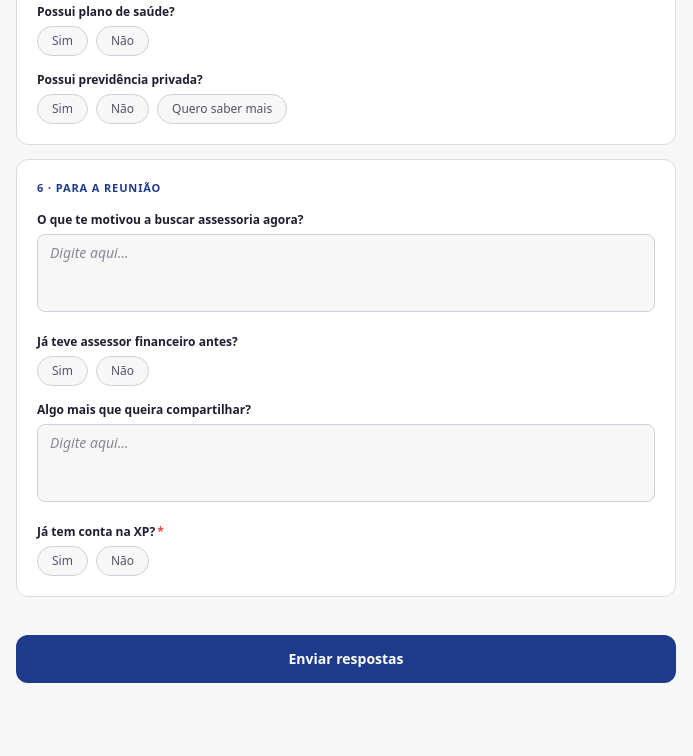
Test: FormPage › exibe erros ao submeter sem campos obrigatórios
The image size is (693, 756).
(page scrolled)
Click the button "Enviar respostas" at (346, 659), box [16,635,676,683]
(page scrolled)
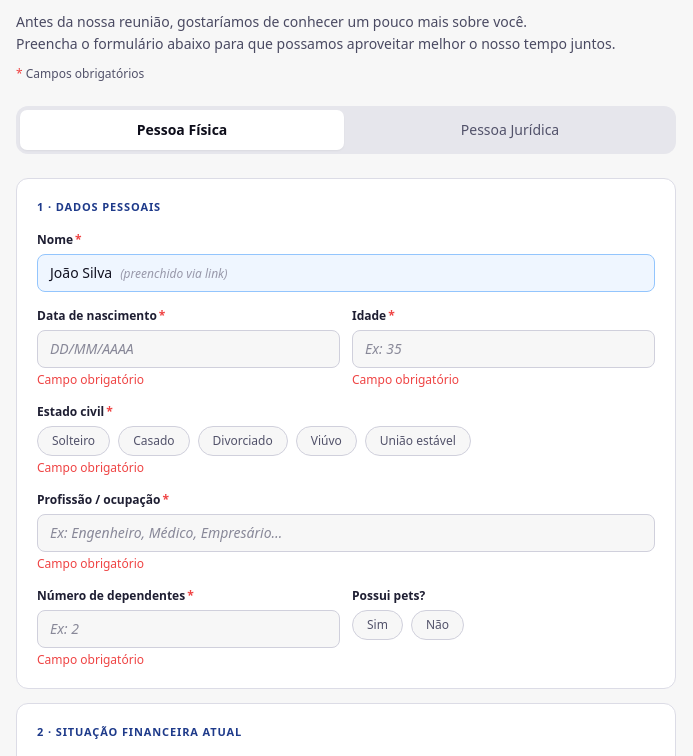
expect the text "Campo obrigatório" below "Data de nascimento" is shown: met, box [37,370,144,388]
